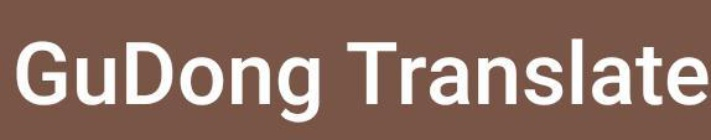TextView: (1, 1, 710, 139)
